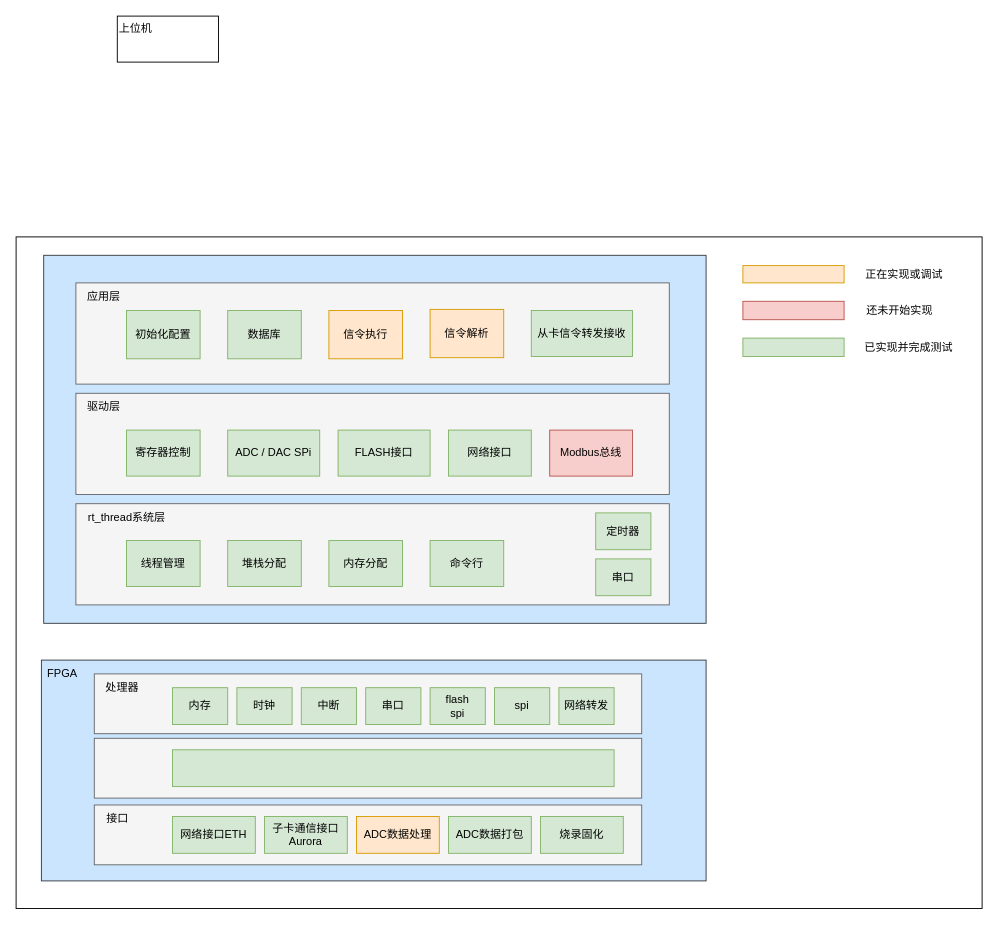
Some shapes in this 998 by 925 pixel diagram are drawn without their labels. Each missing label, with the box of its shape:
内部数据路由: (172, 749, 614, 787)
软件: (43, 254, 706, 623)
